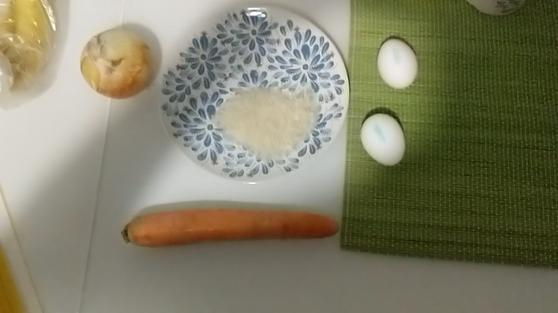carrot: (112, 197, 344, 256)
egg: (357, 106, 408, 171), (371, 30, 420, 93)
onion: (69, 27, 157, 108)
rice: (208, 79, 327, 164)
